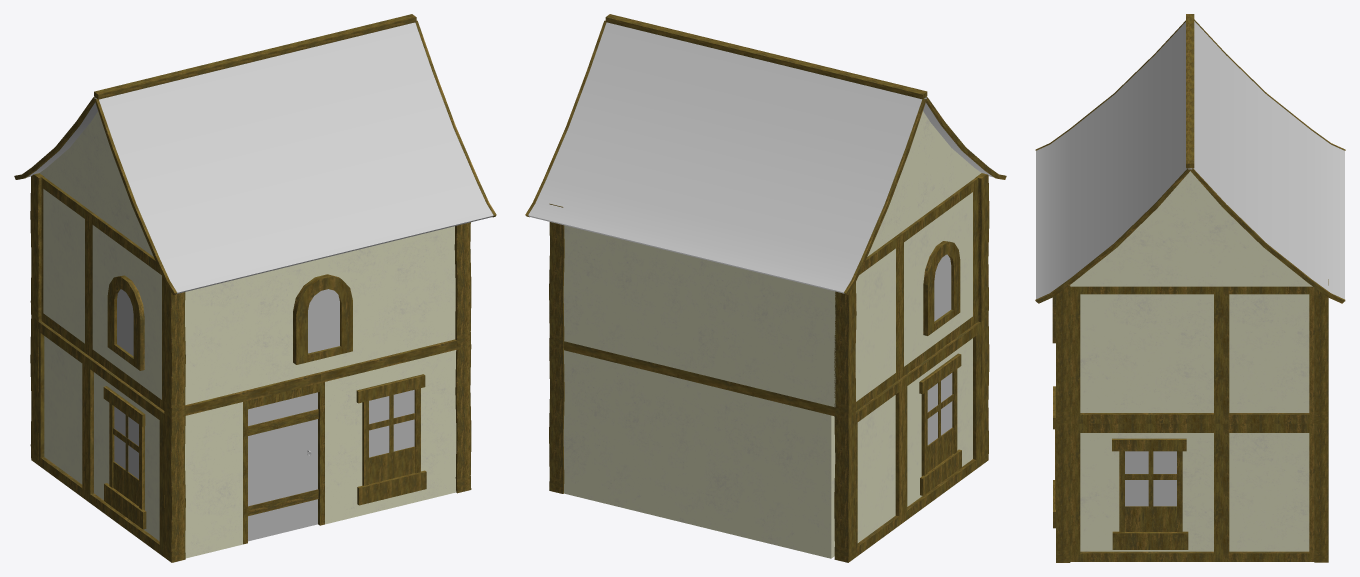
The model's file is house One.fbx.
The picture shows the model from 3 angles, left to right: view 1: azimuth 30°, elevation 25°; view 2: azimuth 150°, elevation 25°; view 3: azimuth 270°, elevation 25°; orthographic projection. The views are drawn at different scales.
Parts seen in each view (by area): view 1: Roof5, Roof6, Wall_Top_bottom_Plank2, Wall_Top_bottom_Plank3, Wall_Plane2, Door_Open_Door4, Wall_Frame7, Wall_Plane_Half2, Wall_Frame5, Window_Rectangle8, Wall_Frame_Half3, Wall_Frame_Half5 (+15 smaller); view 2: Wall_Plane_Long2, Roof5, Roof6, Wall_Top_bottom_Plank5, Wall_Top_bottom_Plank4, Wall_Frame7, Wall_Frame5, Wall_Frame_Half3, Wall_Frame_Half5, Roof_End5, Window_Rectangle9, Wood_Pillar_Thick5 (+11 smaller); view 3: Roof6, Roof5, Wall_Frame6, Wall_Frame4, Roof_End7, Wall_Frame_Half2, Wall_Frame_Half4, Window_Rectangle2, Roof_End_Plank3, Wood_Pillar_Thick11, Wood_Pillar_Thick10, Wood_Pillar_Thick9 (+4 smaller).
Boxes of the visible parts, x1=… form: Roof5: x1=27, y1=61, x2=334, y2=293; Roof6: x1=256, y1=22, x2=493, y2=255; Wall_Top_bottom_Plank2: x1=185, y1=259, x2=320, y2=415; Wall_Top_bottom_Plank3: x1=319, y1=226, x2=457, y2=382; Wall_Plane2: x1=325, y1=350, x2=456, y2=524; Door_Open_Door4: x1=248, y1=392, x2=318, y2=541; Wall_Frame7: x1=88, y1=211, x2=164, y2=410; Wall_Plane_Half2: x1=185, y1=402, x2=242, y2=558; Wall_Frame5: x1=85, y1=355, x2=164, y2=556; Window_Rectangle8: x1=356, y1=374, x2=426, y2=505; Wall_Frame_Half3: x1=37, y1=321, x2=87, y2=498; Wall_Frame_Half5: x1=41, y1=177, x2=90, y2=354; Wall_Plane_Long2: x1=563, y1=350, x2=835, y2=558; Roof5: x1=687, y1=61, x2=993, y2=293; Roof6: x1=528, y1=22, x2=764, y2=255; Wall_Top_bottom_Plank5: x1=698, y1=258, x2=835, y2=416; Wall_Top_bottom_Plank4: x1=563, y1=225, x2=698, y2=382; Wall_Frame7: x1=897, y1=177, x2=978, y2=378; Wall_Frame5: x1=899, y1=321, x2=981, y2=523; Wall_Frame_Half3: x1=854, y1=379, x2=901, y2=557; Wall_Frame_Half5: x1=855, y1=235, x2=899, y2=410; Roof_End5: x1=867, y1=111, x2=981, y2=256; Window_Rectangle9: x1=919, y1=353, x2=961, y2=495; Wood_Pillar_Thick5: x1=834, y1=414, x2=856, y2=562; Roof6: x1=1036, y1=95, x2=1344, y2=299; Roof5: x1=1036, y1=21, x2=1344, y2=224; Wall_Frame6: x1=1070, y1=286, x2=1223, y2=423; Wall_Frame4: x1=1070, y1=423, x2=1223, y2=561; Roof_End7: x1=1070, y1=171, x2=1312, y2=286; Wall_Frame_Half2: x1=1223, y1=423, x2=1314, y2=561; Wall_Frame_Half4: x1=1223, y1=286, x2=1314, y2=423; Window_Rectangle2: x1=1112, y1=438, x2=1188, y2=549; Roof_End_Plank3: x1=1035, y1=168, x2=1345, y2=303; Wood_Pillar_Thick11: x1=1314, y1=424, x2=1328, y2=562; Wood_Pillar_Thick10: x1=1056, y1=424, x2=1070, y2=562; Wood_Pillar_Thick9: x1=1056, y1=285, x2=1070, y2=424.
Size of the model in its own units: 733 by 914 by 634.
